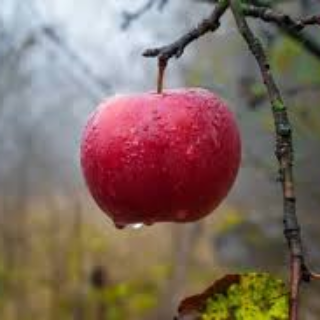tao: (76, 81, 244, 236)
